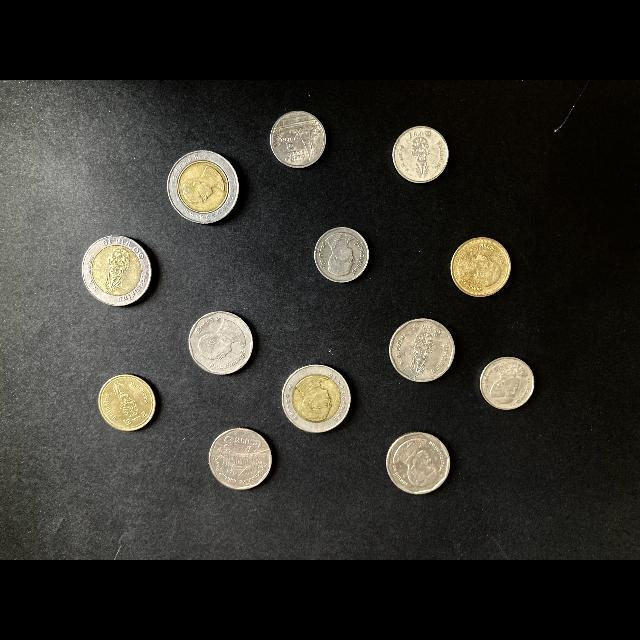1 Bath: (268, 109, 330, 171), (393, 124, 452, 186), (313, 223, 372, 285), (479, 354, 538, 416)
10 Bath: (80, 231, 158, 312), (167, 149, 243, 229), (280, 362, 355, 439)
2 Bath: (447, 234, 515, 301), (96, 371, 158, 434)
5 Bath: (385, 316, 459, 387), (187, 307, 257, 379), (206, 426, 278, 495), (383, 431, 454, 499)
